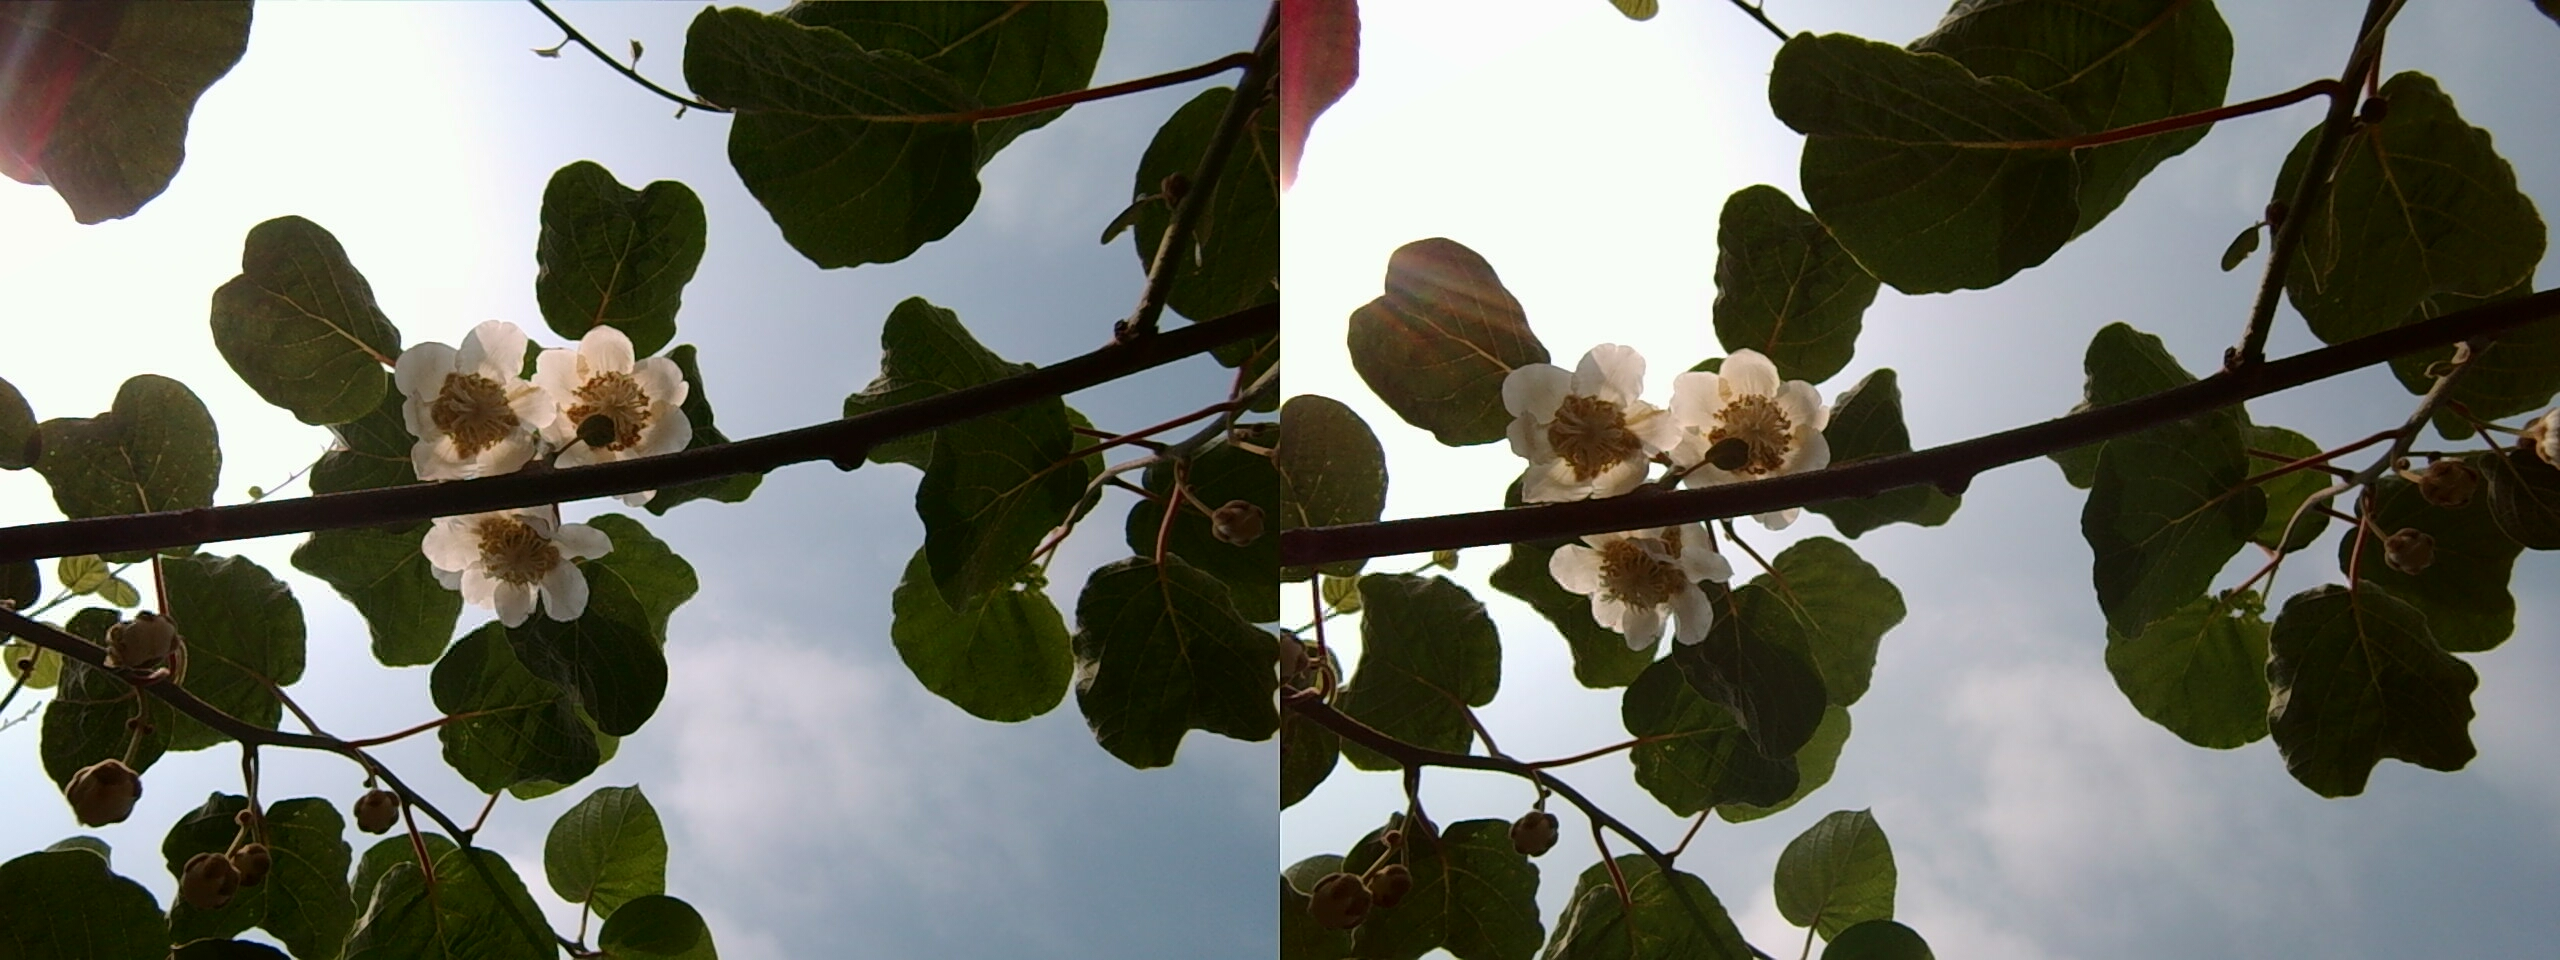flower: (1531, 503, 1737, 660), (1494, 336, 1682, 495), (387, 323, 558, 470), (1654, 349, 1833, 483), (420, 501, 602, 625), (529, 327, 696, 460)
